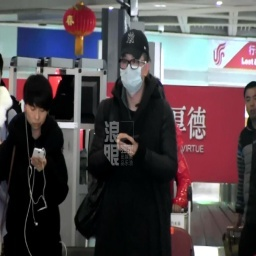correctlyWear: (117, 51, 150, 98)
noWear: (23, 101, 50, 129), (242, 90, 256, 122)
